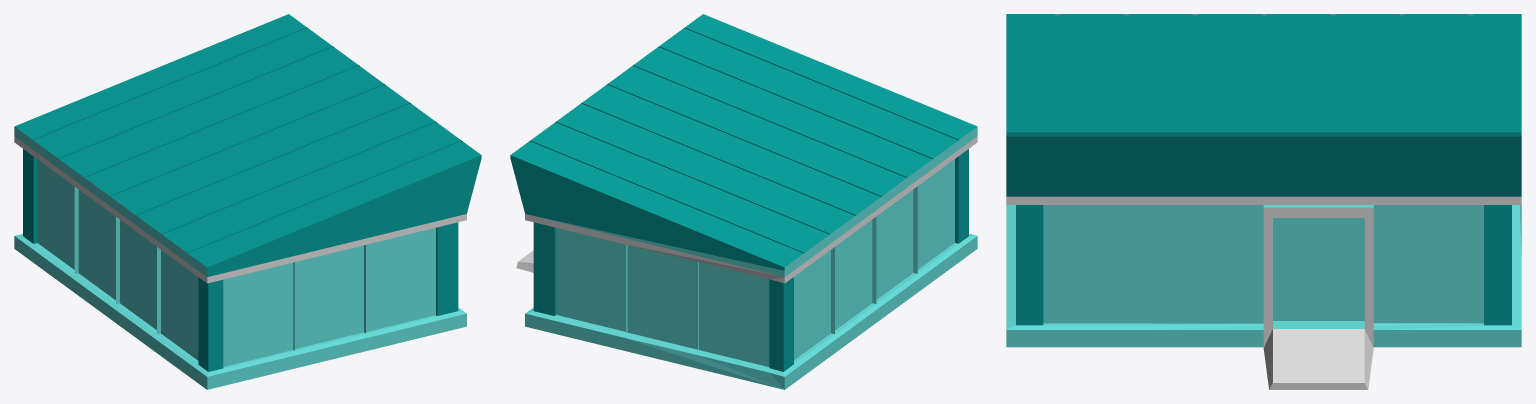
Rendered from CartoonHouse6.fbx.
The picture shows the model from 3 angles, left to right: view 1: azimuth 30°, elevation 25°; view 2: azimuth 150°, elevation 25°; view 3: azimuth 270°, elevation 25°; orthographic projection. The views are drawn at different scales.
Visible parts, largest first — view 1: Shop; view 2: Shop; view 3: Shop.
Part boxes in pixels (<box>): Shop: <box>14,14,481,389</box>; Shop: <box>510,14,977,389</box>; Shop: <box>1006,14,1521,389</box>.
Bounding box in the file's own units: 365 × 180 × 374.
